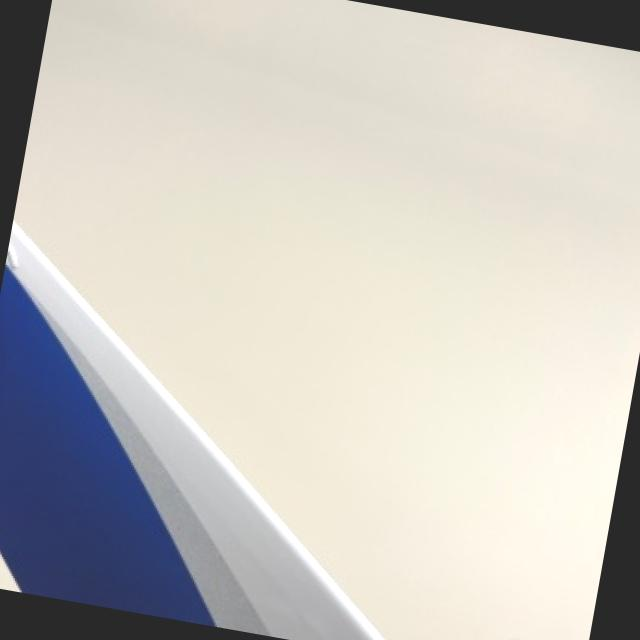healthy: (0, 220, 382, 640)
